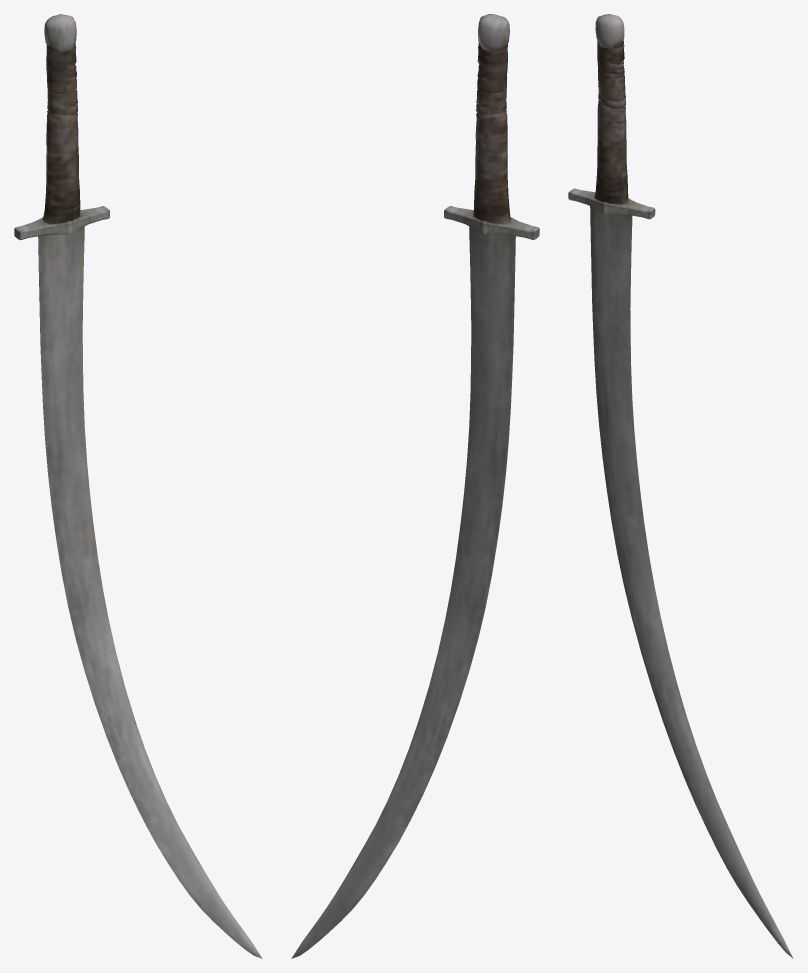
File: weapon-wp_a_1573.glb
The picture shows the model from 3 angles, left to right: view 1: azimuth 30°, elevation 25°; view 2: azimuth 150°, elevation 25°; view 3: azimuth 330°, elevation 25°; orthographic projection. The views are drawn at different scales.
Visible parts, largest first — view 1: wp_a_1573_mesh; view 2: wp_a_1573_mesh; view 3: wp_a_1573_mesh.
Part boxes in pixels (x1=…): wp_a_1573_mesh: x1=14, y1=14, x2=262, y2=958; wp_a_1573_mesh: x1=291, y1=14, x2=539, y2=958; wp_a_1573_mesh: x1=568, y1=14, x2=793, y2=958.
Bounding box in the file's own units: 0.2832 × 1.09 × 0.0336.
Materials: 2 (2 with a texture image).
